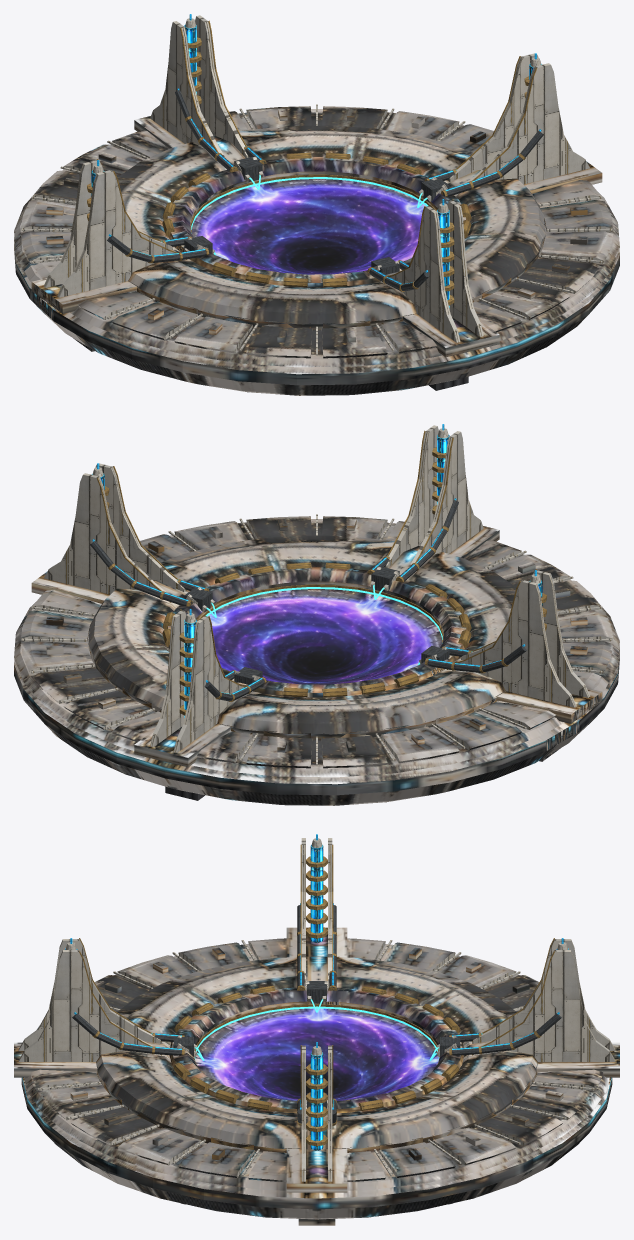
Rendered from authority-nexus.glb.
The picture shows the model from 3 angles, top to bottom: view 1: azimuth 30°, elevation 25°; view 2: azimuth 150°, elevation 25°; view 3: azimuth 270°, elevation 25°; orthographic projection. The views are drawn at different scales.
Parts seen in each view (by area): view 1: structure / Reference armor and port architecture, wormhole / Violet wormhole energy — independent surface, stabilizer-1 / Ivory titanium panel armor, stabilizer-3 / Ivory titanium panel armor, stabilizer-2 / Ivory titanium panel armor, structure / Ventral reference armor and radiators, stabilizer-4 / Ivory titanium panel armor, structure / Ivory titanium panel armor, structure / Brushed brass fittings, stabilizer-1 / Graphite structure, stabilizer-3 / Graphite structure, stabilizer-2 / Graphite structure (+8 smaller); view 2: structure / Reference armor and port architecture, wormhole / Violet wormhole energy — independent surface, stabilizer-1 / Ivory titanium panel armor, stabilizer-3 / Ivory titanium panel armor, stabilizer-4 / Ivory titanium panel armor, structure / Ventral reference armor and radiators, stabilizer-2 / Ivory titanium panel armor, structure / Ivory titanium panel armor, structure / Brushed brass fittings, stabilizer-1 / Graphite structure, stabilizer-3 / Graphite structure, stabilizer-4 / Graphite structure (+8 smaller); view 3: structure / Reference armor and port architecture, wormhole / Violet wormhole energy — independent surface, stabilizer-2 / Ivory titanium panel armor, stabilizer-4 / Ivory titanium panel armor, structure / Ventral reference armor and radiators, structure / Brushed brass fittings, structure / Ivory titanium panel armor, stabilizer-3 / Ivory titanium panel armor, stabilizer-1 / Ivory titanium panel armor, stabilizer-3 / Machined brass containment collars, stabilizer-2 / Graphite structure, stabilizer-4 / Graphite structure (+5 smaller).
Boxes of the visible parts, left/top/right/bottom form: structure / Reference armor and port architecture: left=14, top=106, right=619, bottom=385; wormhole / Violet wormhole energy — independent surface: left=191, top=179, right=426, bottom=274; stabilizer-1 / Ivory titanium panel armor: left=419, top=53, right=589, bottom=201; stabilizer-3 / Ivory titanium panel armor: left=43, top=160, right=214, bottom=297; stabilizer-2 / Ivory titanium panel armor: left=150, top=15, right=263, bottom=180; structure / Ventral reference armor and radiators: left=31, top=280, right=589, bottom=395; stabilizer-4 / Ivory titanium panel armor: left=373, top=200, right=483, bottom=342; structure / Ivory titanium panel armor: left=21, top=104, right=612, bottom=357; structure / Brushed brass fittings: left=162, top=152, right=471, bottom=287; stabilizer-1 / Graphite structure: left=421, top=130, right=543, bottom=202; stabilizer-3 / Graphite structure: left=107, top=234, right=212, bottom=262; stabilizer-2 / Graphite structure: left=175, top=90, right=266, bottom=182; structure / Reference armor and port architecture: left=14, top=516, right=619, bottom=795; wormhole / Violet wormhole energy — independent surface: left=207, top=589, right=442, bottom=684; stabilizer-1 / Ivory titanium panel armor: left=44, top=463, right=214, bottom=611; stabilizer-3 / Ivory titanium panel armor: left=419, top=570, right=590, bottom=707; stabilizer-4 / Ivory titanium panel armor: left=370, top=425, right=483, bottom=590; structure / Ventral reference armor and radiators: left=44, top=690, right=602, bottom=805; stabilizer-2 / Ivory titanium panel armor: left=150, top=610, right=260, bottom=752; structure / Ivory titanium panel armor: left=21, top=514, right=612, bottom=767; structure / Brushed brass fittings: left=162, top=562, right=471, bottom=697; stabilizer-1 / Graphite structure: left=90, top=540, right=212, bottom=612; stabilizer-3 / Graphite structure: left=421, top=644, right=526, bottom=672; stabilizer-4 / Graphite structure: left=368, top=500, right=458, bottom=592; structure / Reference armor and port architecture: left=14, top=927, right=619, bottom=1209; wormhole / Violet wormhole energy — independent surface: left=195, top=1008, right=438, bottom=1100; stabilizer-2 / Ivory titanium panel armor: left=436, top=939, right=615, bottom=1061; stabilizer-4 / Ivory titanium panel armor: left=18, top=939, right=197, bottom=1061; structure / Ventral reference armor and radiators: left=45, top=1107, right=588, bottom=1225; structure / Brushed brass fittings: left=173, top=985, right=460, bottom=1110; structure / Ivory titanium panel armor: left=37, top=940, right=596, bottom=1177; stabilizer-3 / Ivory titanium panel armor: left=301, top=838, right=332, bottom=1001; stabilizer-1 / Ivory titanium panel armor: left=301, top=1045, right=332, bottom=1181; stabilizer-3 / Machined brass containment collars: left=297, top=856, right=336, bottom=990; stabilizer-2 / Graphite structure: left=440, top=1013, right=561, bottom=1056; stabilizer-4 / Graphite structure: left=72, top=1013, right=193, bottom=1056.
Size of the model in its own units: 19.8 by 6.34 by 19.8.
9 materials, 8 textured.
